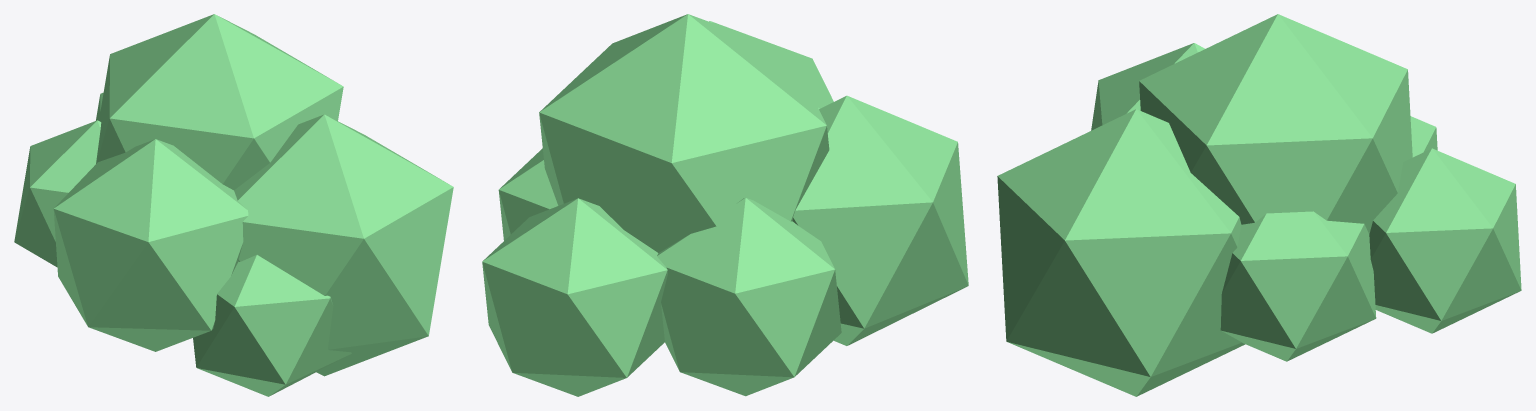
File: bush.fbx
3 renders of one model, left to right at view 1: azimuth 30°, elevation 25°; view 2: azimuth 150°, elevation 25°; view 3: azimuth 270°, elevation 25°, orthographic. The views are drawn at different scales.
Visible parts, largest first — view 1: bush; view 2: bush; view 3: bush.
Boxes of the visible parts, x1,y1,x2,y2 form: bush: (14,14,453,396); bush: (482,14,968,396); bush: (997,14,1521,396).
Size of the model in its own units: 423 by 387 by 512.
